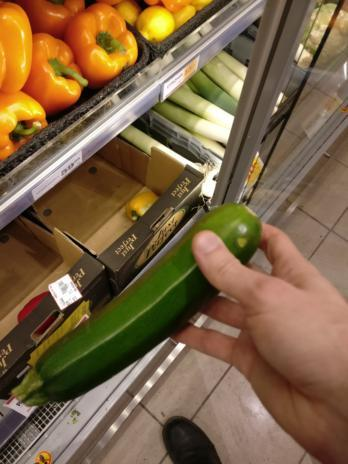Capsicum: (0, 0, 140, 85)
Cucumber: (22, 196, 267, 402)
